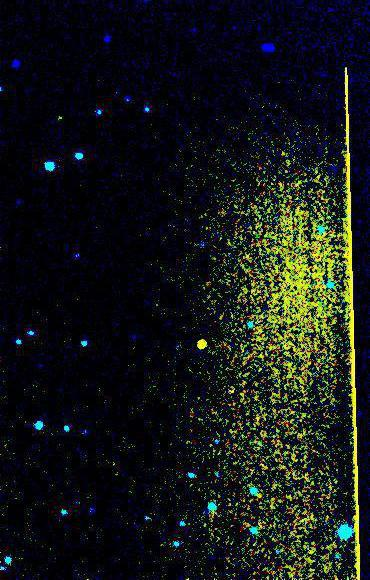star: (186, 330, 216, 360)
